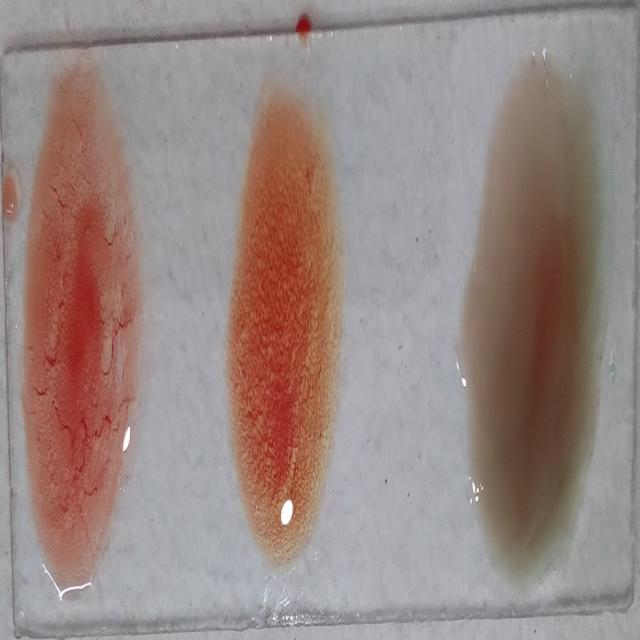B: (230, 98, 342, 568)
D: (23, 71, 141, 592)
